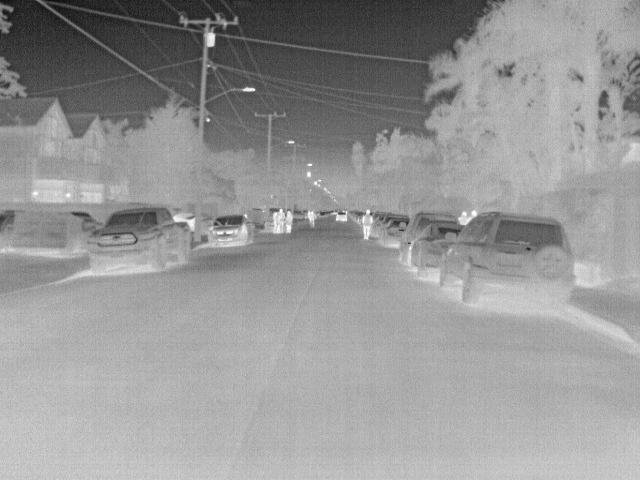car: (441, 211, 579, 311), (88, 206, 192, 278), (409, 221, 469, 282), (400, 212, 459, 263), (208, 212, 256, 246), (381, 218, 416, 248), (68, 211, 103, 236), (368, 211, 399, 237), (334, 210, 349, 223)
person: (360, 208, 375, 240), (275, 207, 288, 234), (304, 208, 317, 230), (284, 208, 294, 234), (459, 208, 471, 223), (468, 209, 477, 221)
